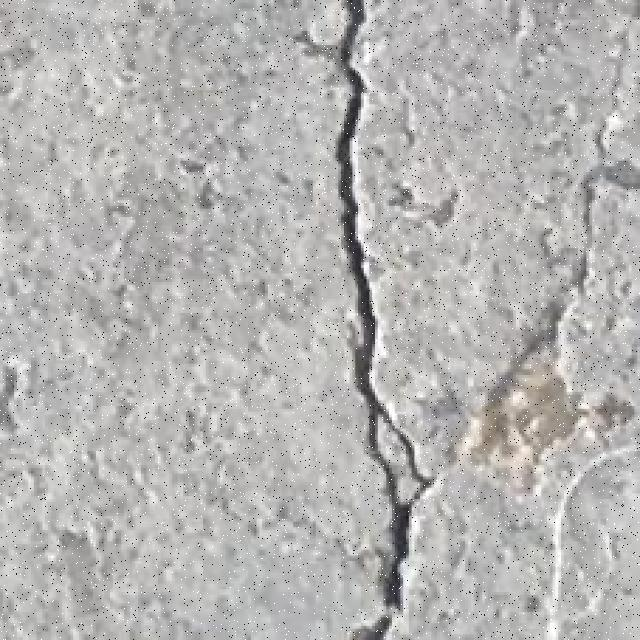crack: (333, 1, 434, 635)
